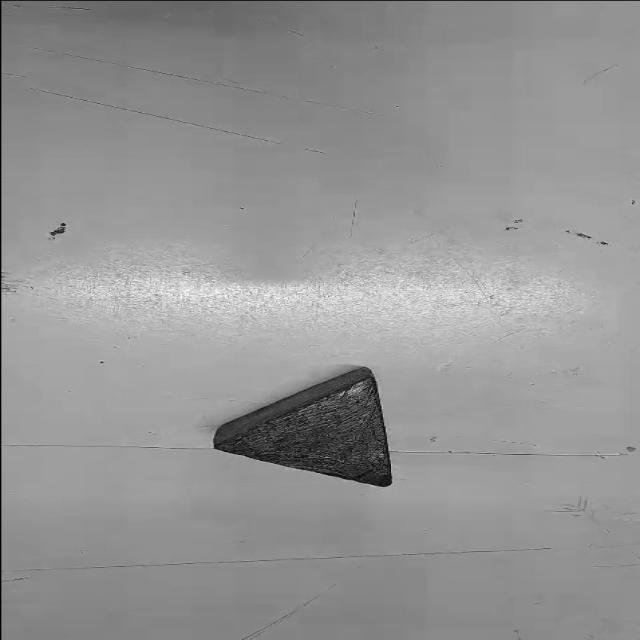btriangle: (219, 376, 392, 484)
